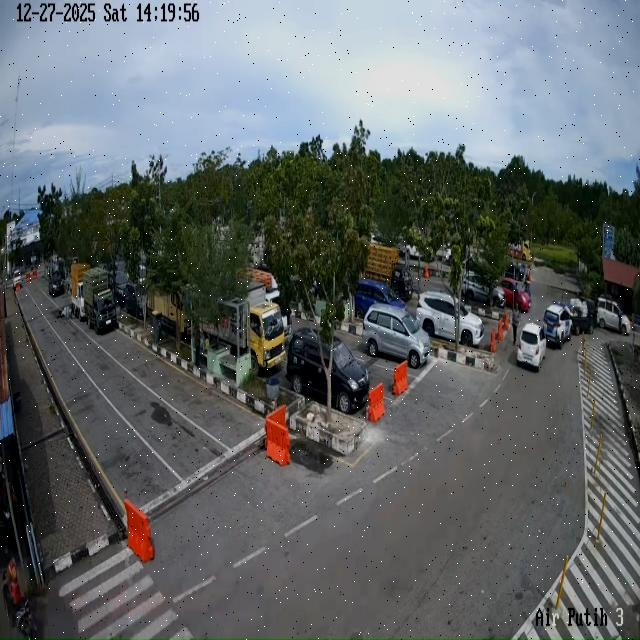Golongan IVA: (286, 327, 370, 414), (362, 304, 430, 369), (416, 291, 484, 347), (355, 279, 406, 320), (462, 272, 506, 308), (516, 322, 546, 372), (597, 296, 631, 336), (543, 303, 572, 349), (499, 278, 531, 312), (48, 272, 64, 298)
Golongan IVB: (364, 243, 414, 301), (83, 270, 117, 337), (565, 298, 598, 336), (70, 263, 90, 321)
Golongan VB: (202, 282, 286, 374)
